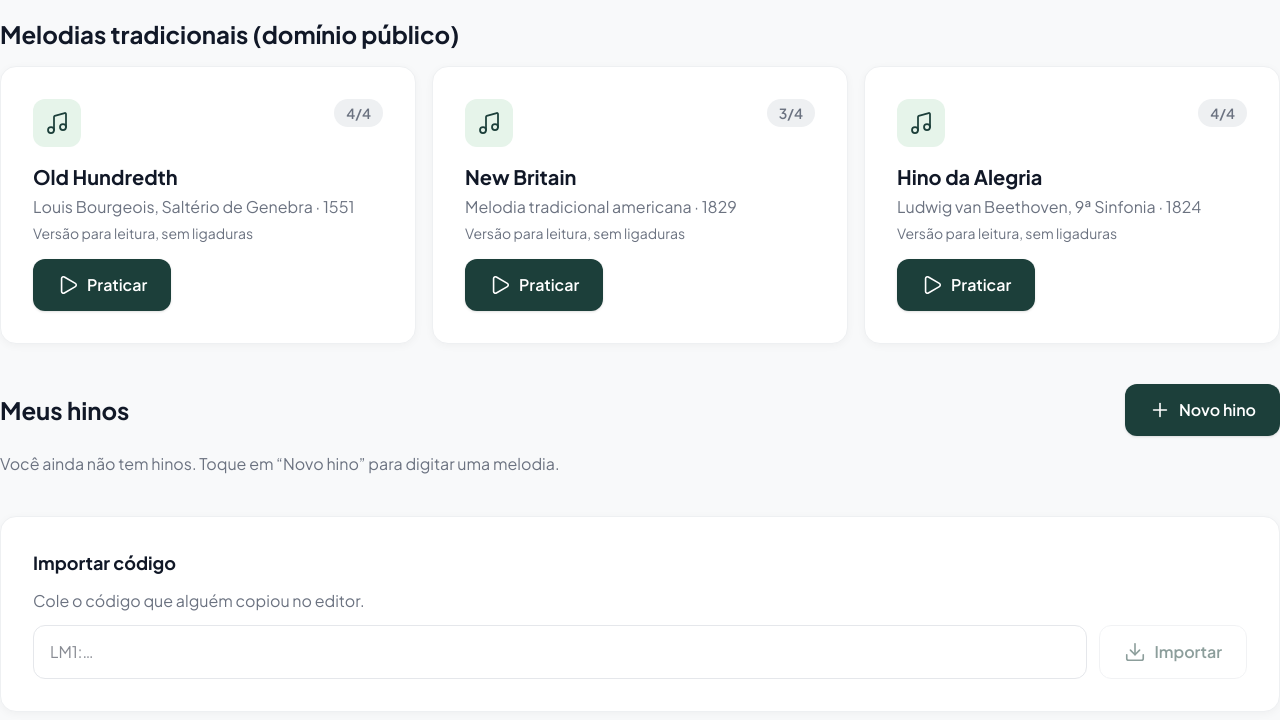
Test: Hymns › código inválido mostra o erro e não cria hino
The width and height of the screenshot is (1280, 720).
(page scrolled)
Type "LM1:lixo!" into the field named "Código do hino".
click(560, 652); type("LM1:lixo!")  # box [33,625,1087,679]
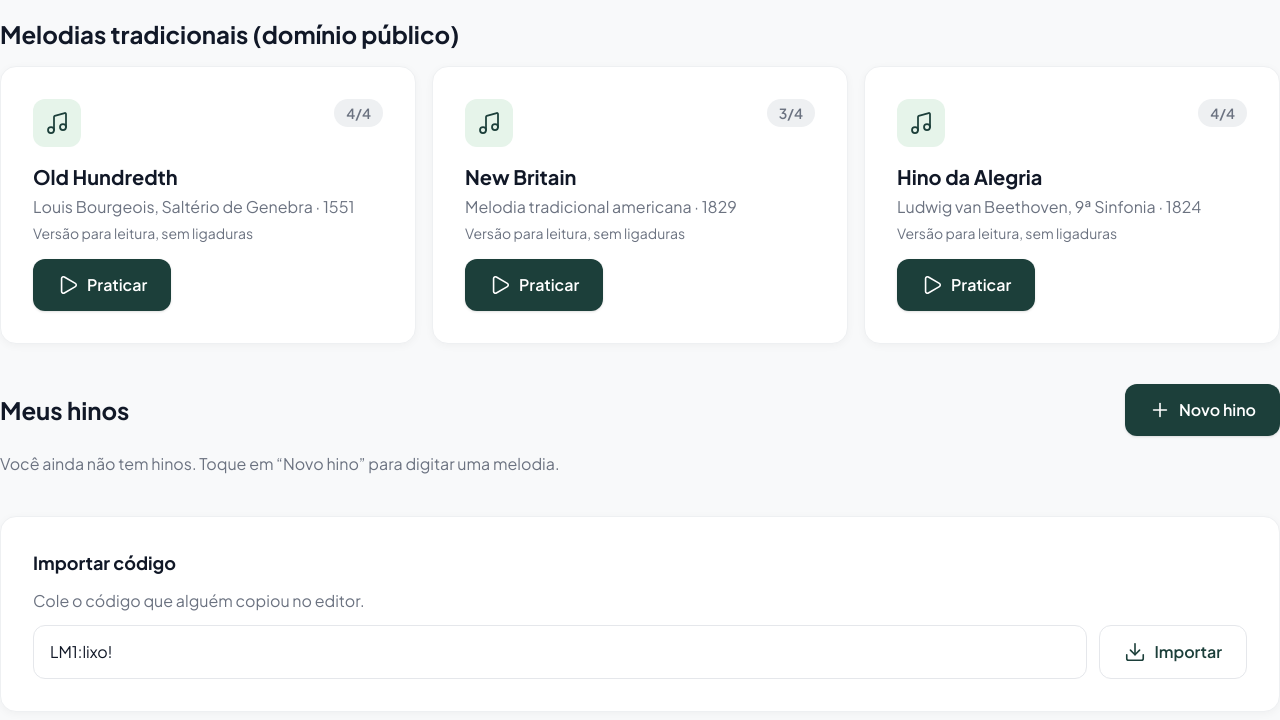
Click the button "Importar".
click(1173, 652)  # box [1099,625,1247,679]
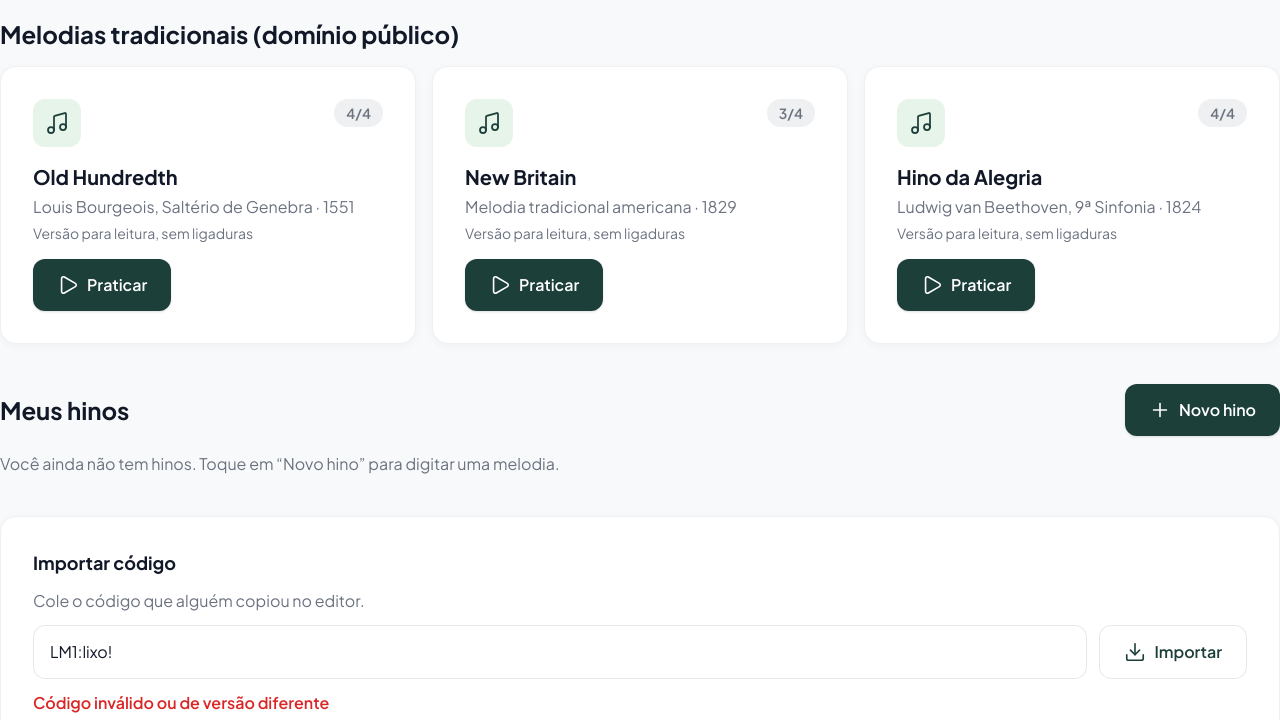
Expected: the text "Código inválido ou de versão diferente" is shown, [33,692,329,713]
